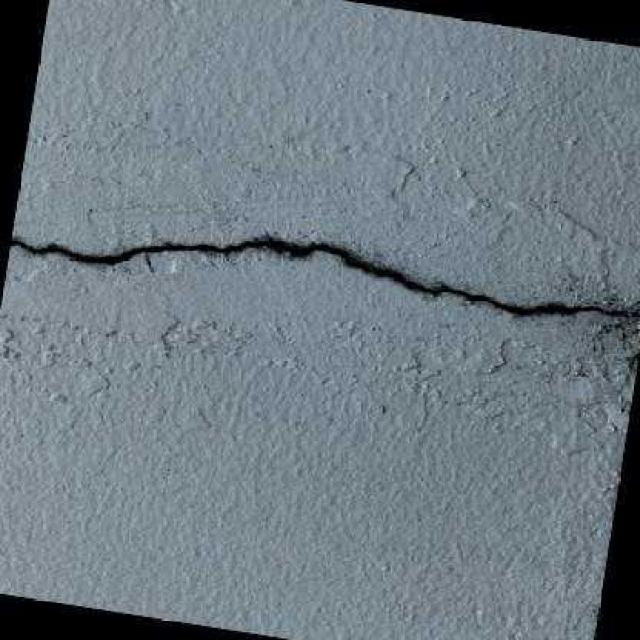D00: (8, 239, 635, 317)
